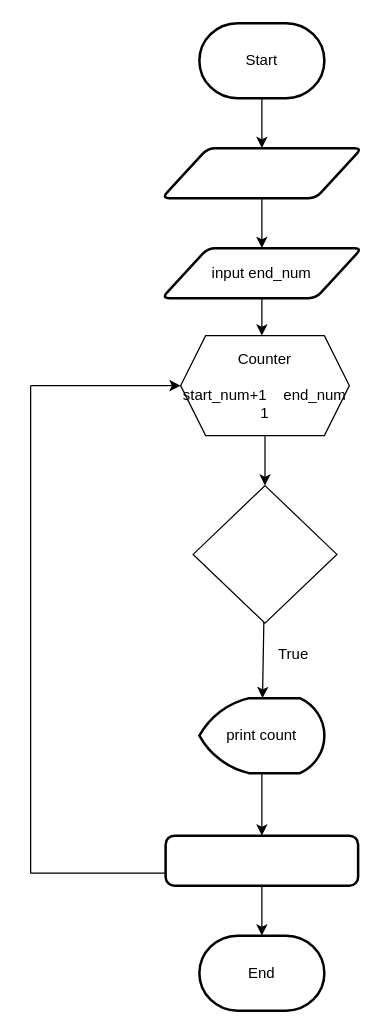
The diagram is 385 pixels wide and 1033 high, and some of its shapes have lost their labels. The box of each missing label's shape, as (x1, y1, x2, y2) in pixels:
count += 1: (164, 834, 359, 886)
if count / 3 = 0: (192, 484, 337, 623)
input start_num: (160, 146, 362, 199)
